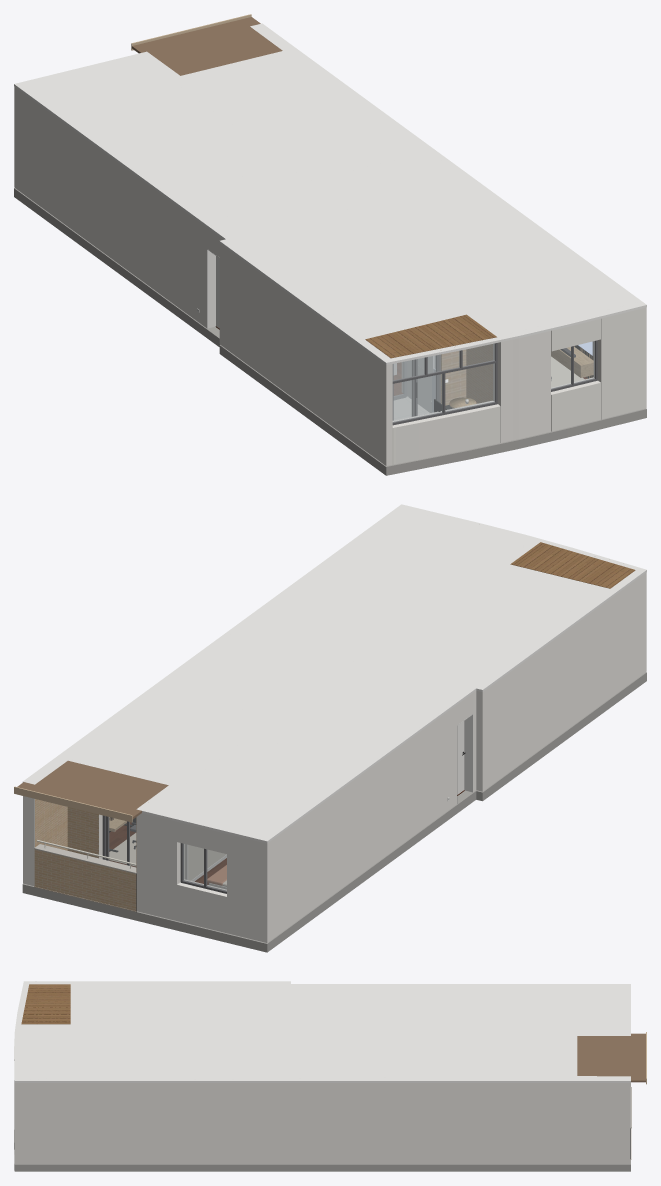
The model's file is apartment.glb.
3 views of the same model, one above another, from view 1: azimuth 30°, elevation 25°; view 2: azimuth 150°, elevation 25°; view 3: azimuth 270°, elevation 25° (orthographic). The views are drawn at different scales.
Visible parts, largest first — view 1: Room_exterior, Room_sala, Room_quarto-01, Room_quarto-02, Room_marquise, Room_cozinha, Room_entrada, Room_quarto-03, Room_wc-02, Room_lavandaria, Room_varanda, Room_wc-01 (+3 smaller); view 2: Room_exterior, Room_sala, Room_varanda, Room_quarto-01, Room_quarto-02, Room_cozinha, Room_entrada, Room_quarto-03, Room_wc-02, Room_marquise, Room_wc-01, Room_lavandaria (+3 smaller); view 3: Room_exterior, Room_sala, Room_quarto-01, Room_quarto-02, Room_cozinha, Room_entrada, Room_quarto-03, Room_wc-02, Room_varanda, Room_marquise, Room_wc-01, Room_lavandaria (+2 smaller).
Part boxes in pixels (x1,y1,x2,y2): Room_exterior: [14, 14, 646, 475]; Room_sala: [315, 179, 639, 415]; Room_quarto-01: [18, 55, 239, 268]; Room_quarto-02: [171, 51, 390, 149]; Room_marquise: [355, 311, 505, 463]; Room_cozinha: [220, 221, 409, 417]; Room_entrada: [201, 165, 350, 335]; Room_quarto-03: [309, 148, 466, 211]; Room_wc-02: [267, 123, 421, 180]; Room_lavandaria: [324, 291, 446, 444]; Room_varanda: [136, 21, 289, 77]; Room_wc-01: [126, 141, 241, 194]; Room_exterior: [14, 504, 646, 952]; Room_sala: [237, 508, 529, 665]; Room_varanda: [21, 758, 172, 923]; Room_quarto-01: [142, 737, 374, 941]; Room_quarto-02: [65, 685, 275, 867]; Room_cozinha: [396, 597, 579, 792]; Room_entrada: [297, 656, 475, 803]; Room_quarto-03: [195, 630, 358, 686]; Room_wc-02: [166, 661, 317, 717]; Room_marquise: [499, 540, 642, 694]; Room_wc-01: [291, 713, 413, 763]; Room_lavandaria: [490, 570, 615, 717]; Room_exterior: [14, 981, 646, 1171]; Room_sala: [15, 1015, 293, 1080]; Room_quarto-01: [455, 984, 625, 1035]; Room_quarto-02: [413, 1031, 573, 1078]; Room_cozinha: [132, 981, 290, 1017]; Room_entrada: [285, 984, 387, 1031]; Room_quarto-03: [285, 1031, 361, 1078]; Room_wc-02: [353, 1031, 421, 1077]; Room_varanda: [574, 1031, 636, 1161]; Room_marquise: [21, 981, 73, 1027]; Room_wc-01: [387, 985, 463, 1015]; Room_lavandaria: [73, 981, 132, 1017].
Size of the model in its own units: 6.95 by 3 by 18.65.
367 materials, 154 textured.
